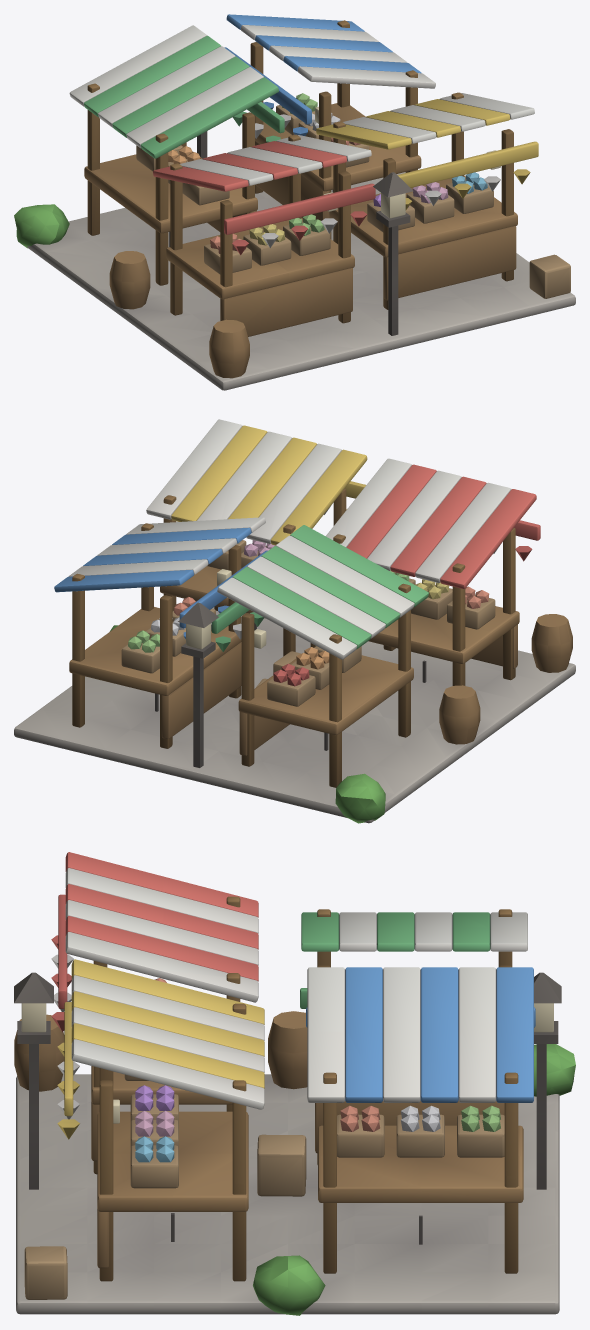
Rendered from market.glb.
3 renders of one model, top to bottom at view 1: azimuth 30°, elevation 25°; view 2: azimuth 150°, elevation 25°; view 3: azimuth 270°, elevation 25°, orthographic. The views are drawn at different scales.
Visible parts, largest first — view 1: main, glow; view 2: main, glow; view 3: main, glow.
Boxes of the visible parts, x1,y1,x2,y2 form: main: (14, 14, 575, 390); glow: (315, 106, 500, 218); main: (14, 419, 575, 823); glow: (186, 569, 266, 649); main: (14, 852, 575, 1315); glow: (21, 1003, 553, 1123).
Bounding box in the file's own units: 1.89 × 0.9198 × 1.86.
